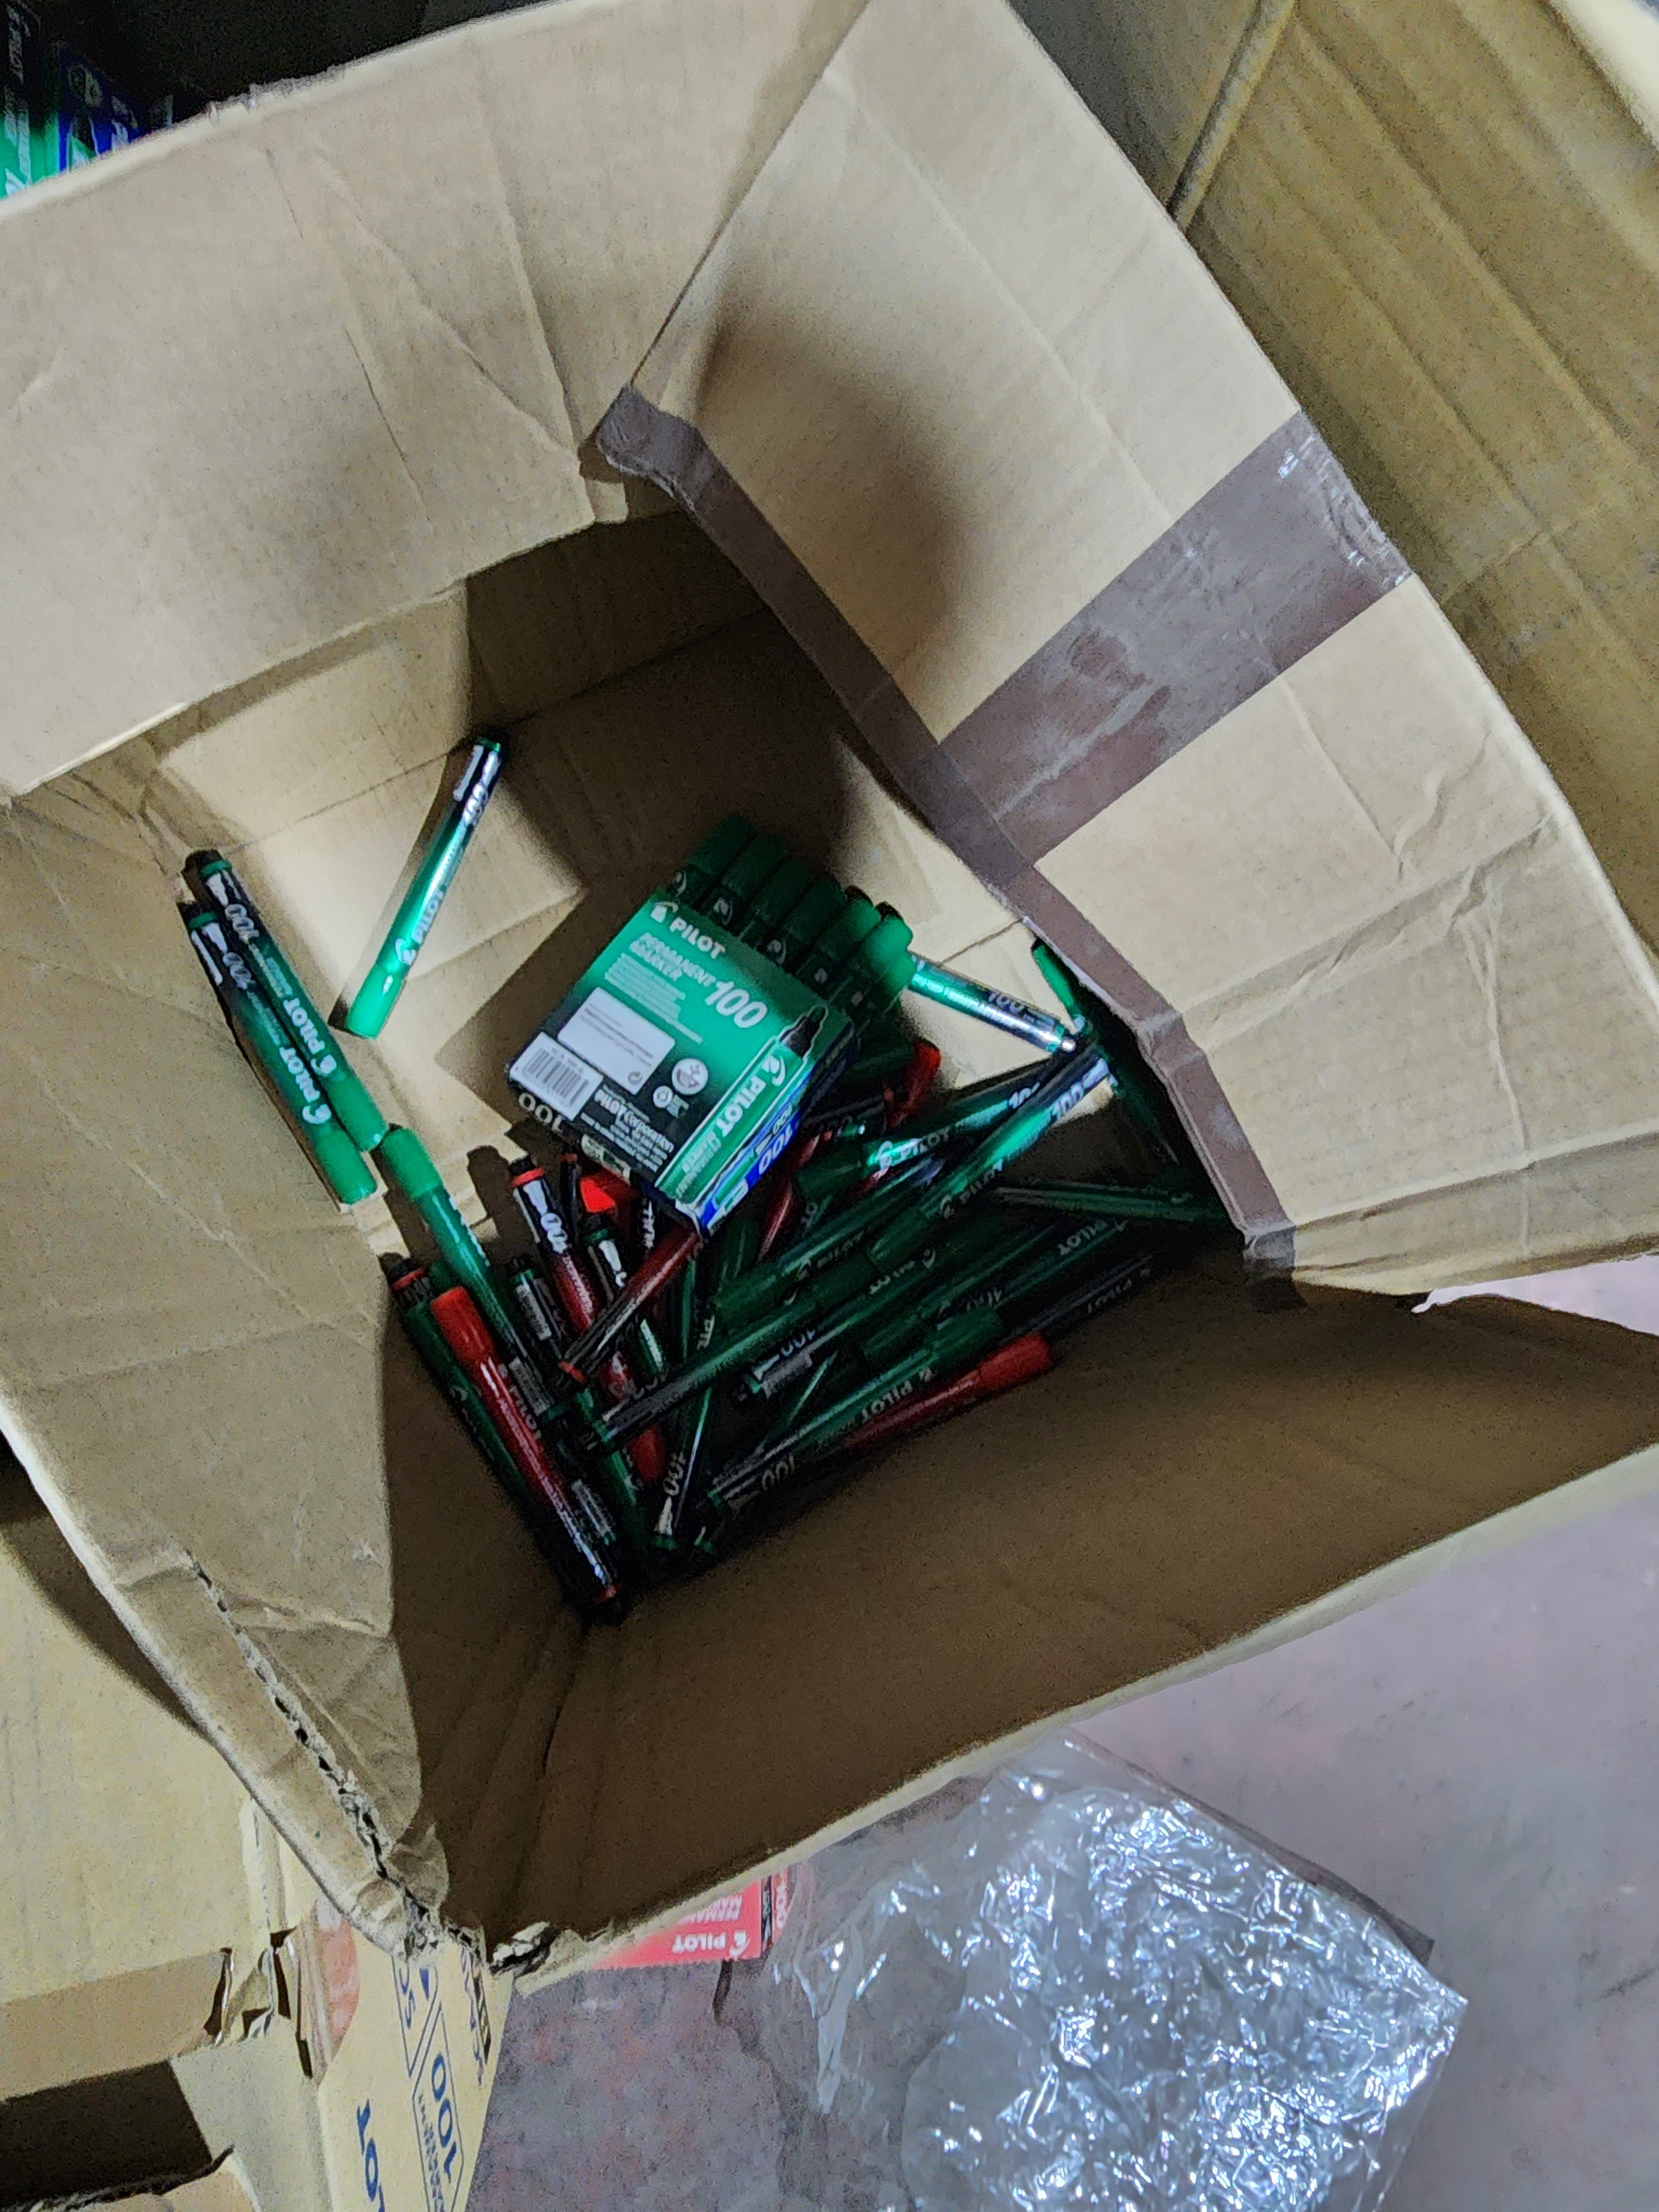box: (51, 56, 1608, 1932)
